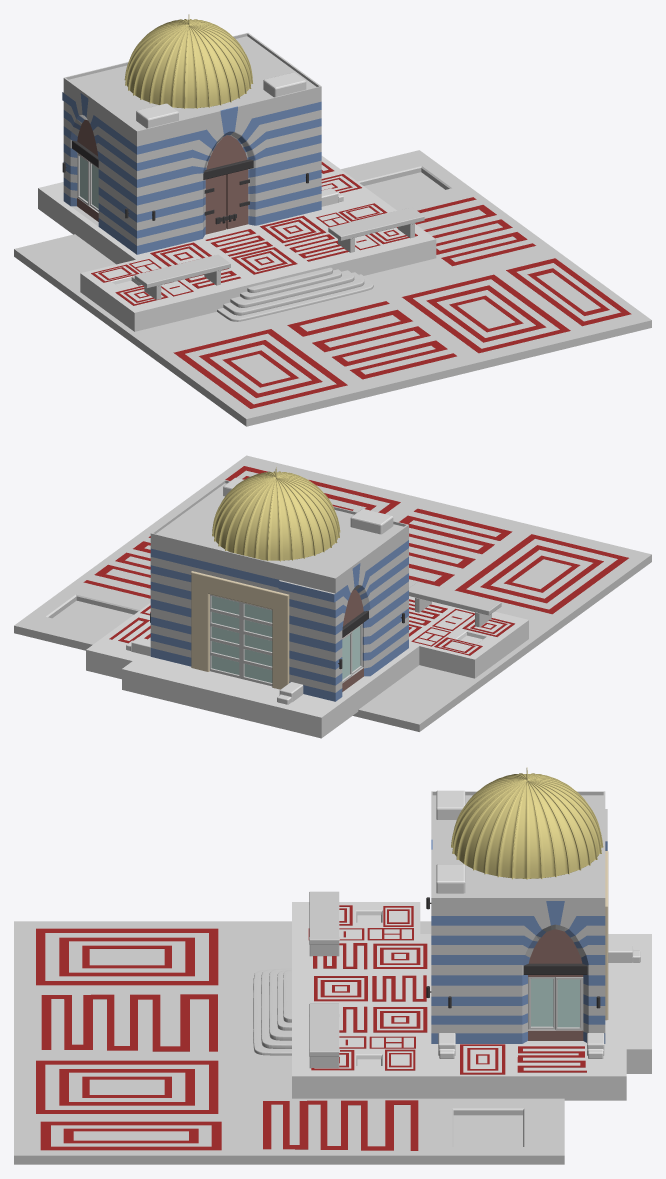
File: house.glb
3 views of the same model, one above another, from view 1: azimuth 30°, elevation 25°; view 2: azimuth 150°, elevation 25°; view 3: azimuth 270°, elevation 25° (orthographic). The views are drawn at different scales.
Visible parts, largest first — view 1: Plane.009, Plane, Plane.001, Plane.005, Sphere, Plane.002, Cube.009, Cube.008, Cube.001, Plane.008, Plane.014, Plane.015 (+2 smaller); view 2: Plane.009, Plane, Plane.001, Sphere, Plane.005, Plane.007, Cube.004, Cube.009, Cube.001, Plane.008, Cube.007; view 3: Plane.009, Plane.001, Plane, Plane.005, Sphere, Plane.002, Plane.008, Cube.008, Cube.009, Cube.001, Cube.007, Plane.023 (+8 smaller).
Boxes of the visible parts, <box> form: Plane.009: <box>14,150,651,426</box>; Plane: <box>62,33,321,254</box>; Plane.001: <box>38,156,436,331</box>; Plane.005: <box>173,197,631,408</box>; Sphere: <box>124,19,253,108</box>; Plane.002: <box>217,267,373,321</box>; Cube.009: <box>134,254,230,299</box>; Cube.008: <box>328,207,424,252</box>; Cube.001: <box>136,72,306,128</box>; Plane.008: <box>77,153,98,211</box>; Plane.014: <box>231,247,297,274</box>; Plane.015: <box>260,215,325,243</box>; Plane.009: <box>14,455,651,731</box>; Plane: <box>150,479,408,701</box>; Plane.001: <box>86,596,528,738</box>; Sphere: <box>212,471,340,561</box>; Plane.005: <box>83,466,628,614</box>; Plane.007: <box>210,594,272,686</box>; Cube.004: <box>191,571,289,689</box>; Cube.009: <box>409,581,501,627</box>; Cube.001: <box>223,477,393,534</box>; Plane.008: <box>342,624,362,682</box>; Cube.007: <box>126,637,303,704</box>; Plane.009: <box>14,921,564,1164</box>; Plane.001: <box>292,902,651,1100</box>; Plane: <box>431,791,607,1043</box>; Plane.005: <box>36,928,418,1150</box>; Sphere: <box>451,773,603,879</box>; Plane.002: <box>253,968,291,1055</box>; Plane.008: <box>528,977,583,1030</box>; Cube.008: <box>309,1003,339,1068</box>; Cube.009: <box>309,891,339,956</box>; Cube.001: <box>436,790,465,893</box>; Cube.007: <box>438,944,640,1058</box>; Plane.023: <box>517,1046,586,1072</box>.
Bounding box in the file's own units: 905 × 459 × 1042.
